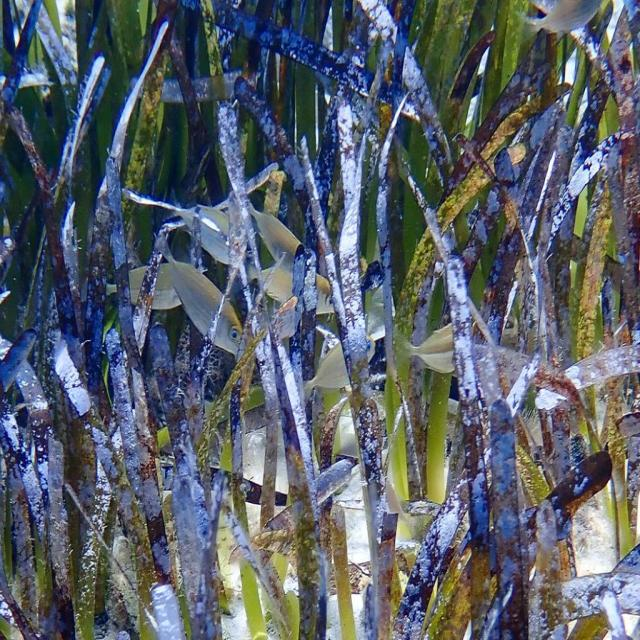Sokar Baligi: (152, 223, 249, 371)
